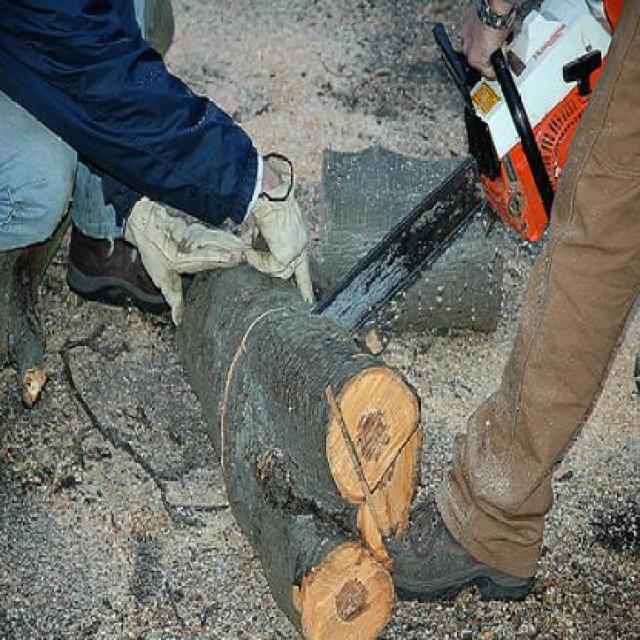Chainsaw: (308, 18, 614, 327)
